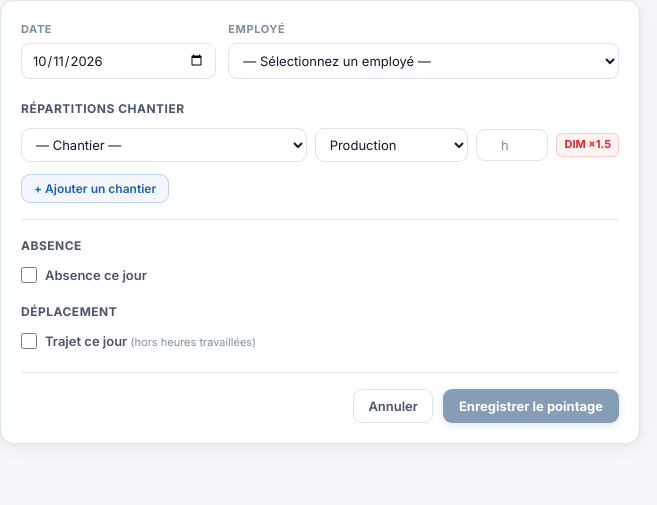
Test: PointageFormulaire — multi-chantier › bouton "+ Ajouter un chantier" ajoute une deuxième ligne
Click the button "+ Ajouter un chantier".
click(95, 188)  # box x1=21 y1=174 x2=169 y2=203
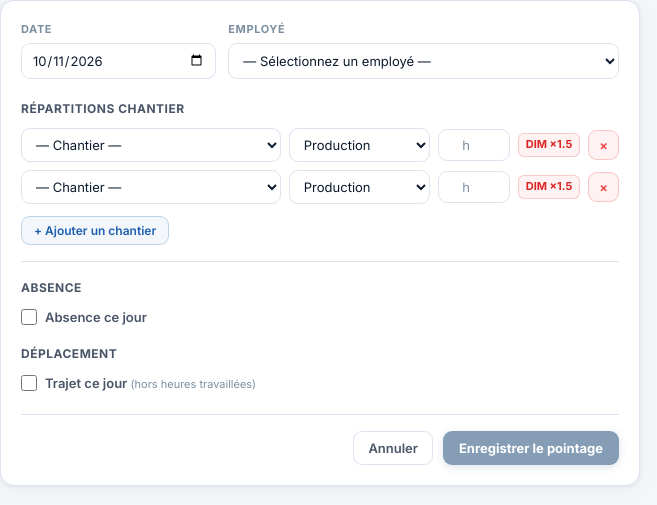
Expected: the number of dropdowns named "Chantier" is 2, x1=21 y1=128 x2=281 y2=162; x1=21 y1=170 x2=281 y2=204
